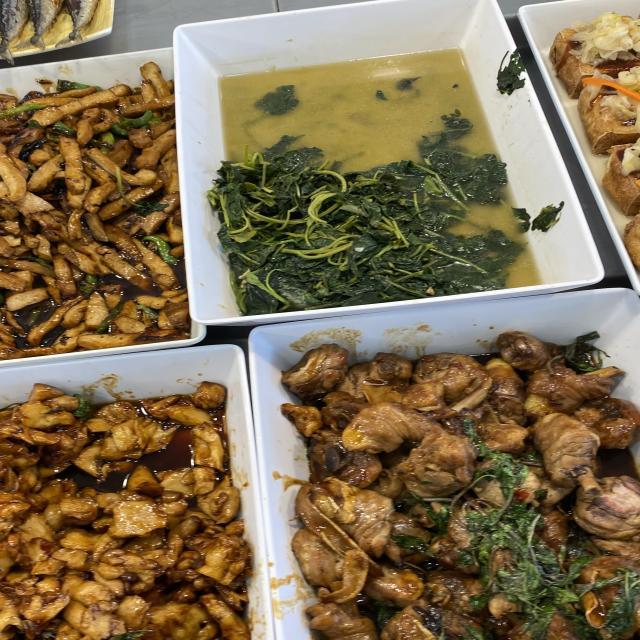Fried dried beans: (23, 113, 162, 316)
sweet potato leaves: (250, 176, 490, 276)
three-cup chicken: (333, 382, 617, 620)
